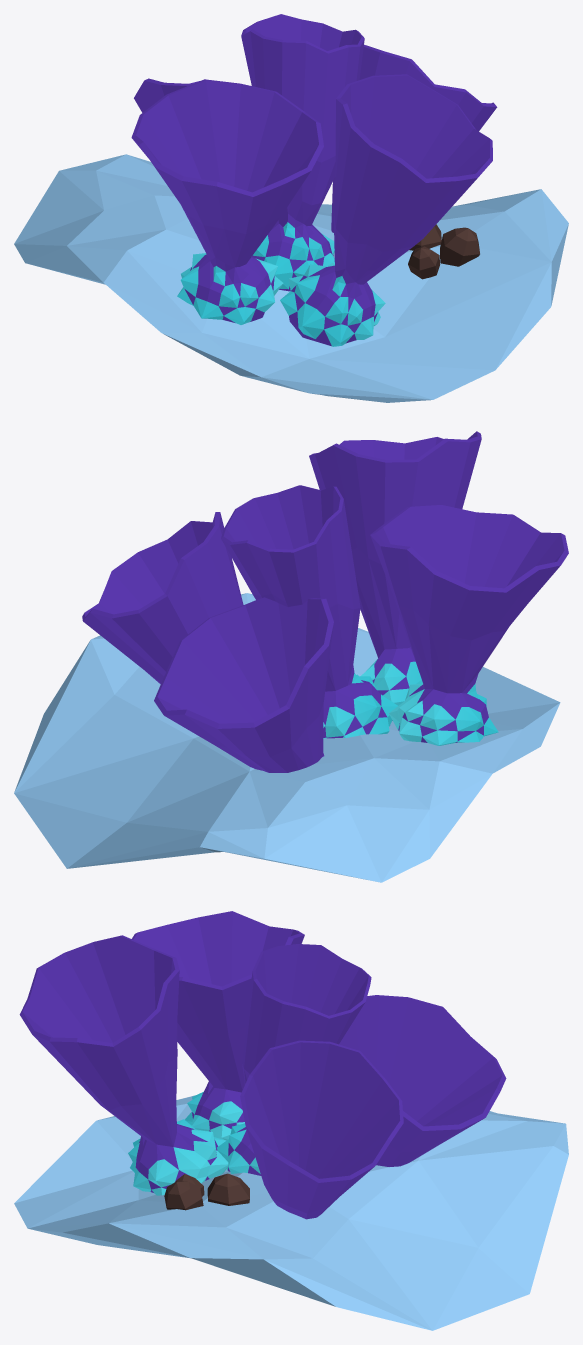
The model's file is Coralls_016.glb.
3 views of the same model, one above another, from view 1: azimuth 30°, elevation 25°; view 2: azimuth 150°, elevation 25°; view 3: azimuth 270°, elevation 25° (orthographic). The views are drawn at different scales.
Visible parts, largest first — view 1: Coralls_016; view 2: Coralls_016; view 3: Coralls_016.
Boxes of the visible parts, <box> form: Coralls_016: <box>14,14,568,402</box>; Coralls_016: <box>14,431,568,882</box>; Coralls_016: <box>14,911,568,1330</box>.
Bounding box in the file's own units: 1.89 × 1.29 × 2.2.
Materials: 2 (2 with a texture image).
